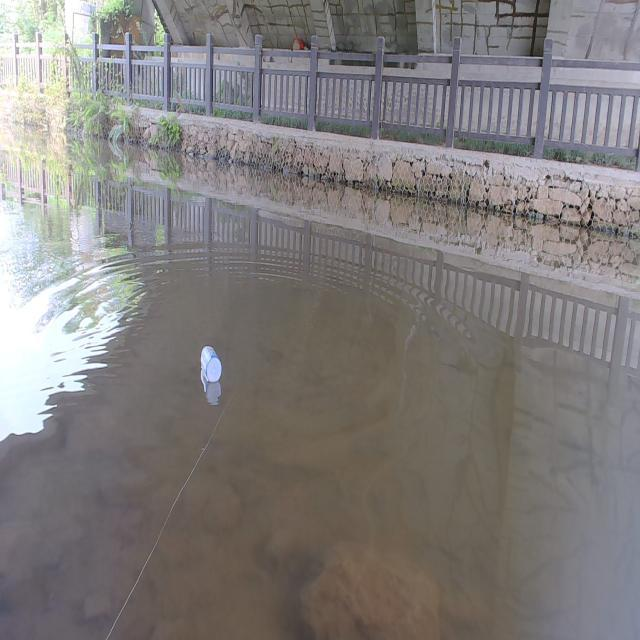garbage: (200, 344, 222, 382)
